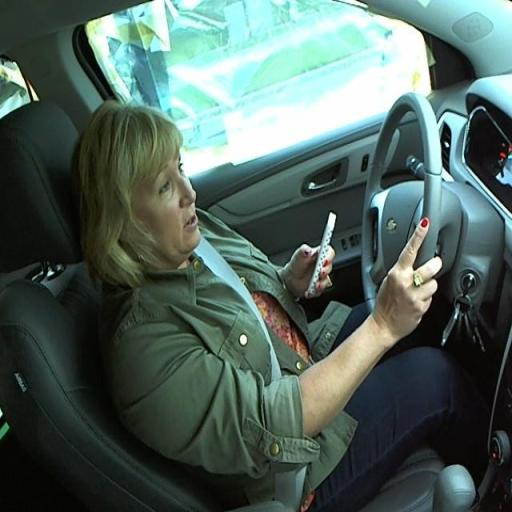texting_phone: (74, 108, 444, 454)
